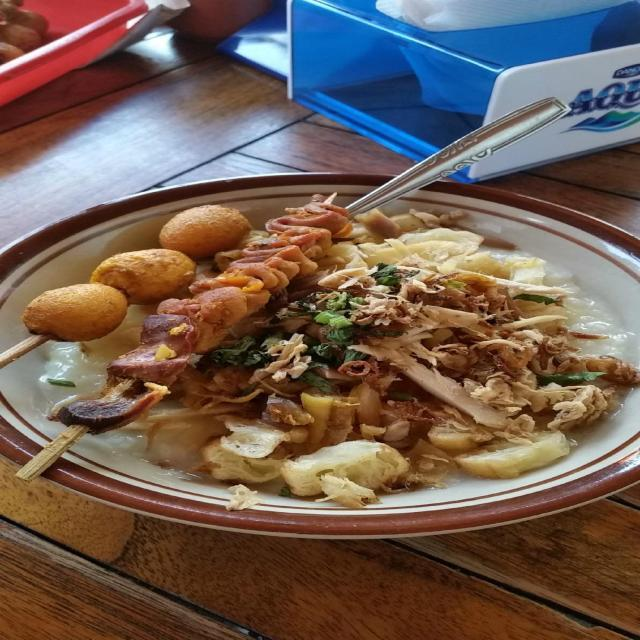bubur ayam: (63, 204, 626, 511)
mangkuk: (1, 173, 638, 539)
